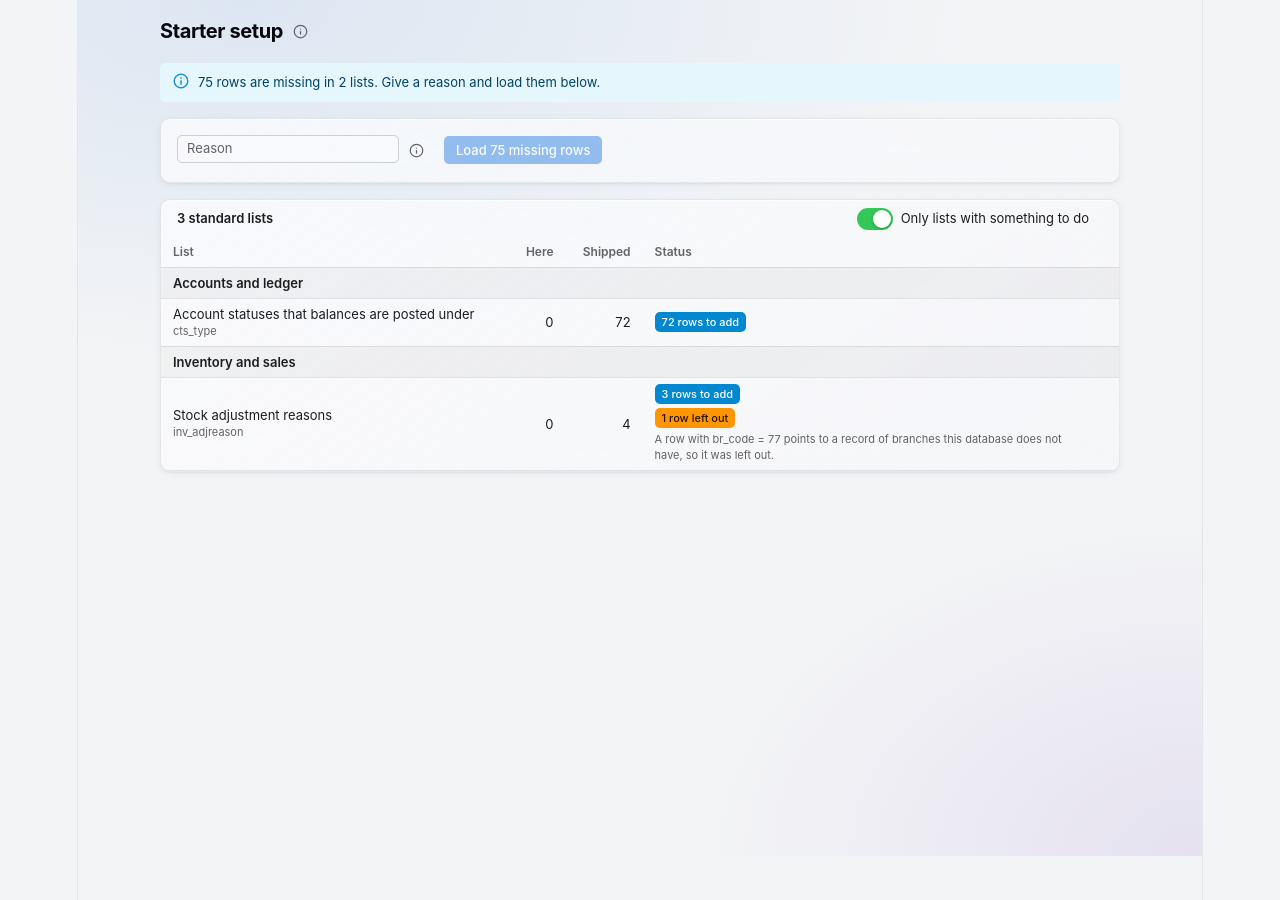
Test case: starter setup › shows what is missing, asks for a reason, confirms, then loads only the missing rows
Expected: the text "75 rows are missing in 2 lists" is shown, [198,74,600,90]
Expected: the text "72 rows to add" is shown, [662,315,739,329]
Step 1. Type "setting up the new database" into the field labelled "Reason" → (288, 149), box [177,135,399,163]
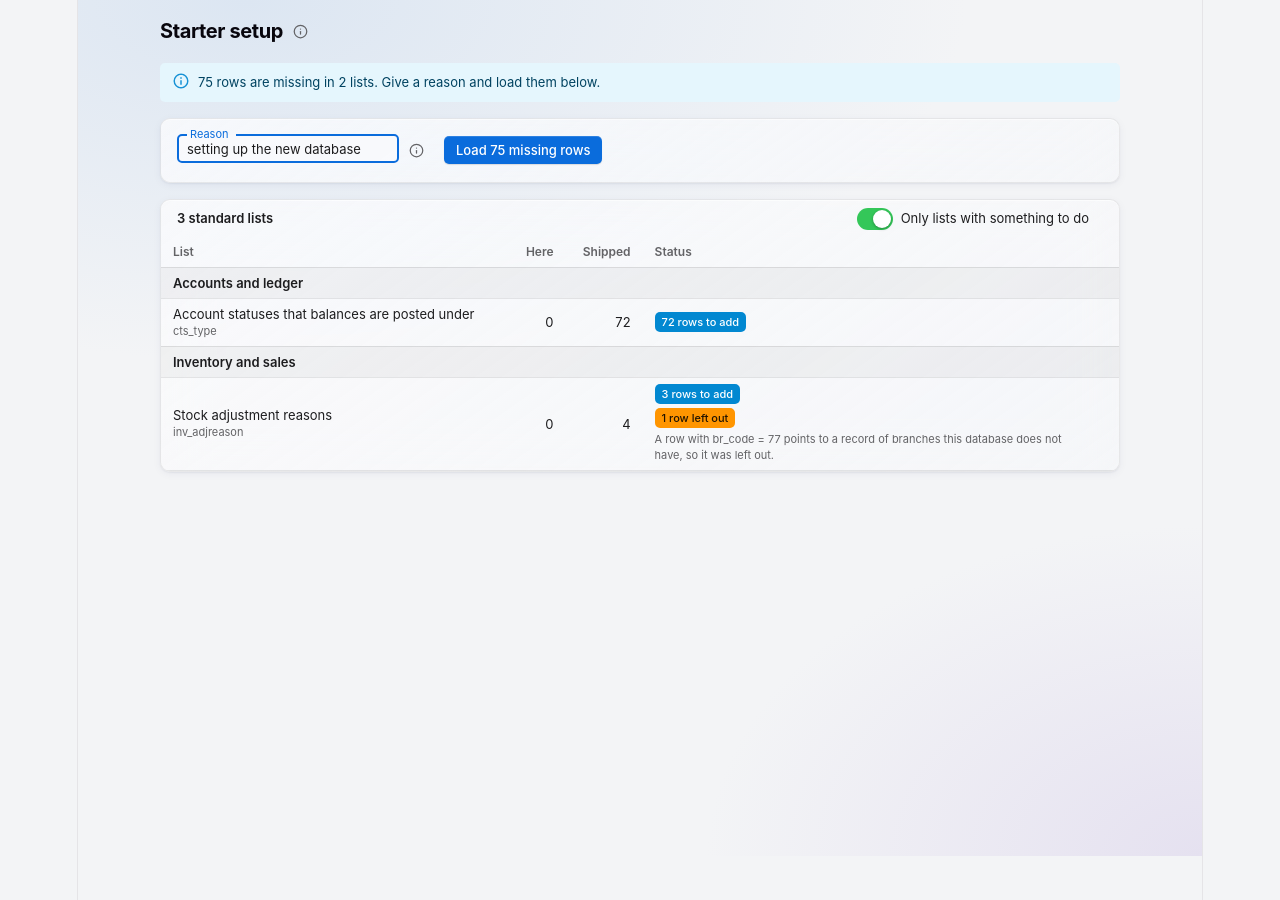
Step 2. Click the button "Load 75 missing rows" → (523, 150), box [444,136,602,164]
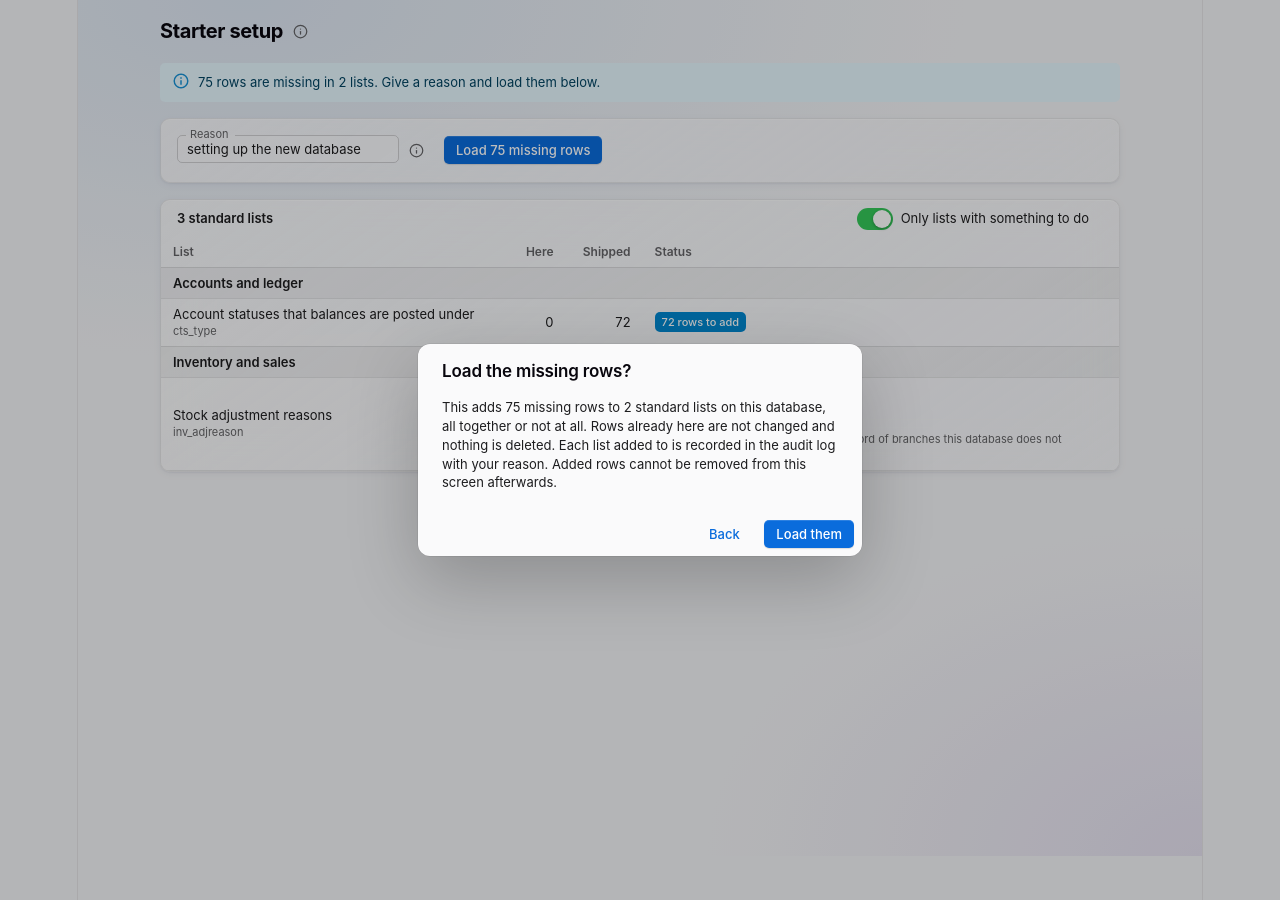
Step 3. Click the button "Load them" → (809, 534), box [764,520,854,548]
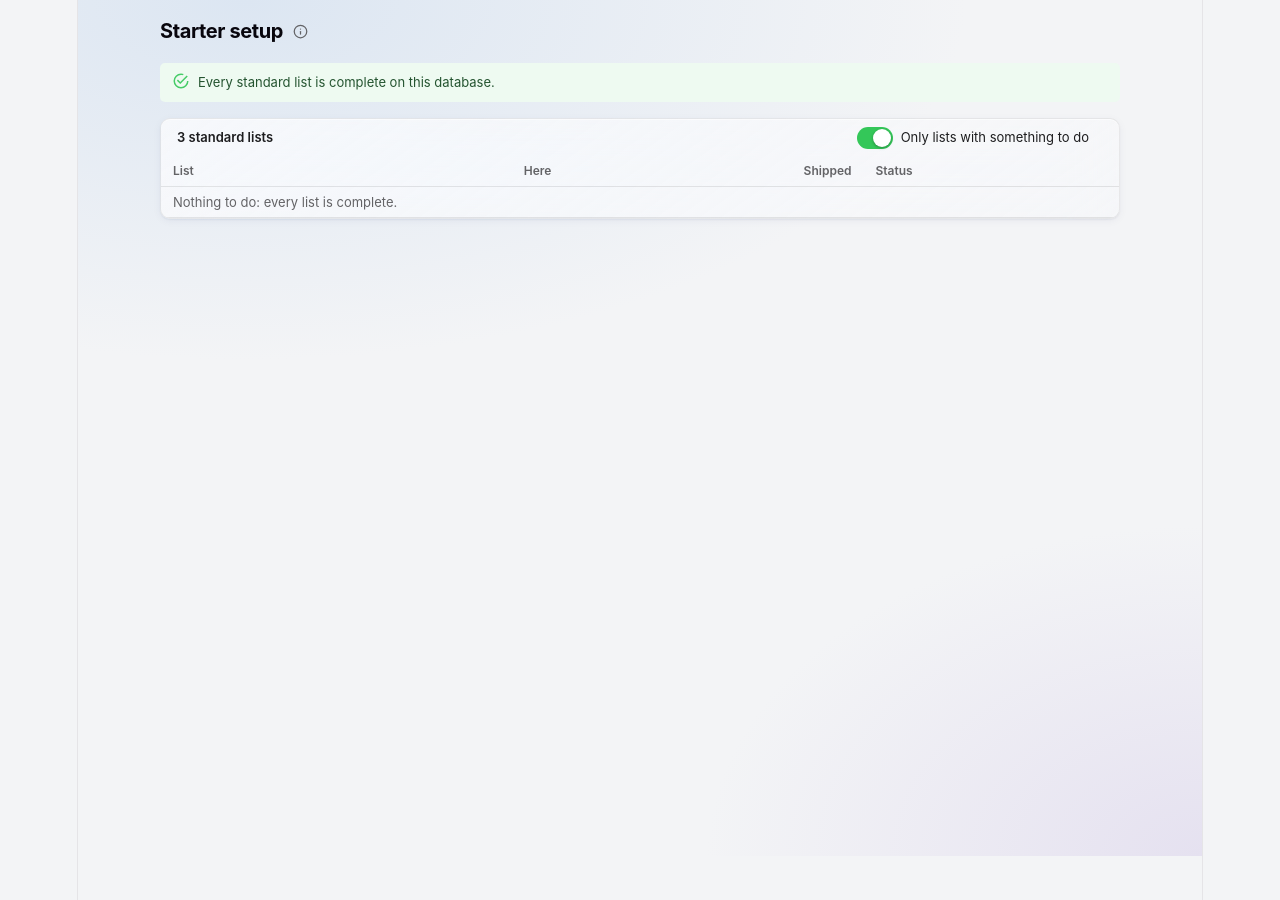
Expected: the text "Every standard list is complete on this database." is shown, [198,74,495,90]
